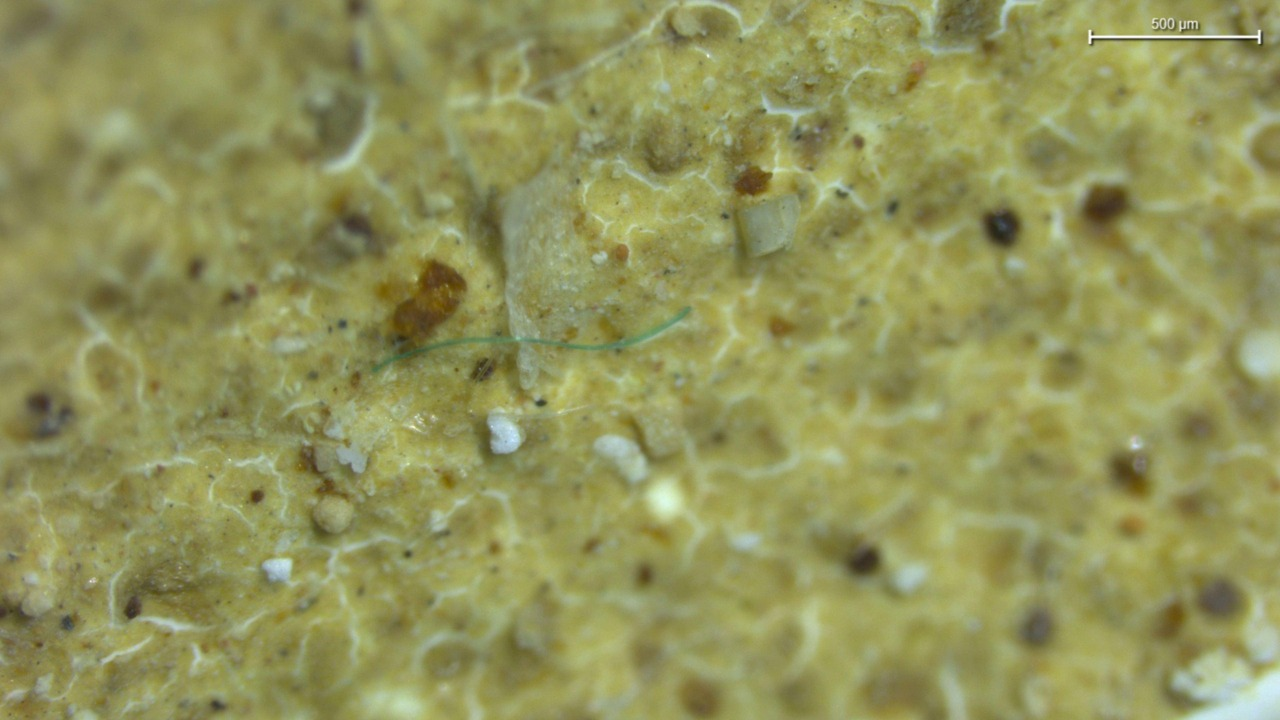microplastic_fragment: (738, 194, 801, 257), (312, 494, 355, 534), (487, 415, 523, 454)
